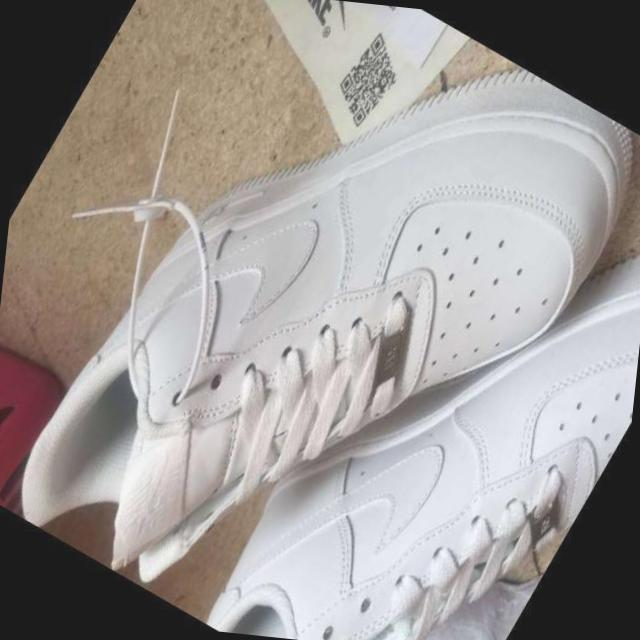nike_original_airforce: (0, 0, 640, 640), (191, 51, 640, 640)
